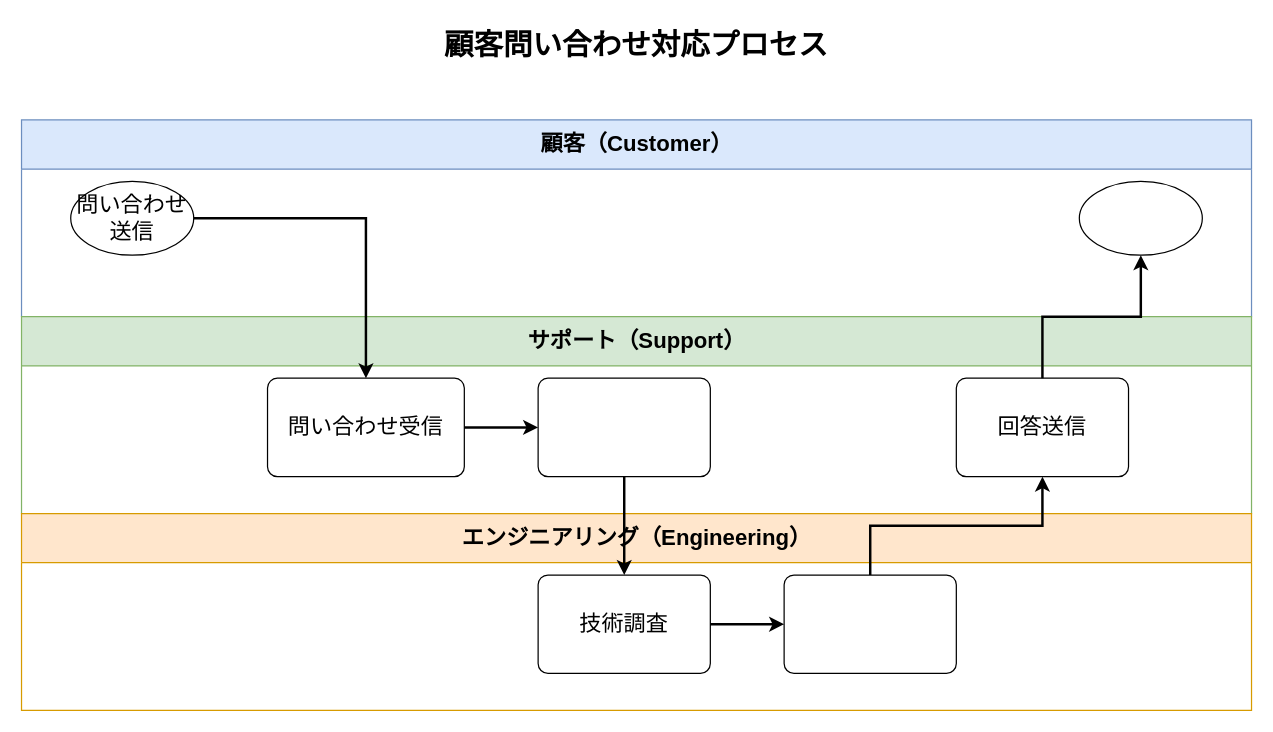
The diagram is 1273 pixels wide and 732 high, and some of its shapes have lost their labels. The centre of each missing label's shape, as x and y in pixels:
内容確認: the point at 623,427
回答作成: the point at 869,623
回答受信: the point at 1140,217
